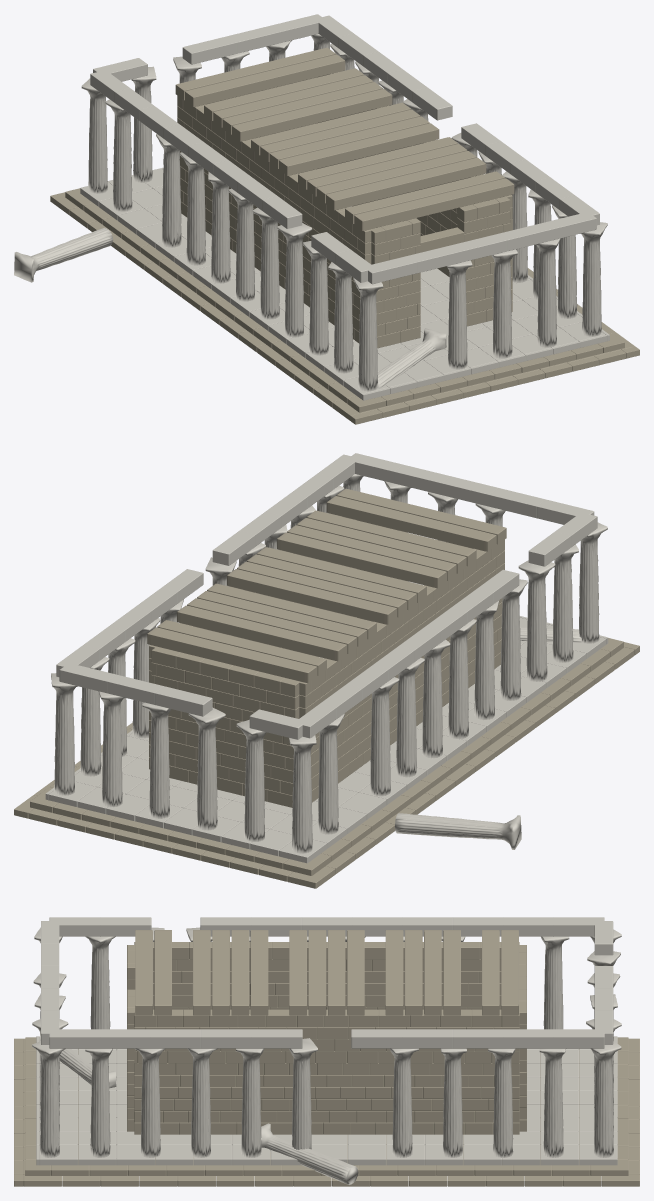
File: temple-ruins-quest.glb
3 views of the same model, one above another, from view 1: azimuth 30°, elevation 25°; view 2: azimuth 150°, elevation 25°; view 3: azimuth 270°, elevation 25° (orthographic). The views are drawn at different scales.
Parts seen in each view (by area): view 1: temple-ruins-quest / Solstice aged marble, temple-ruins-quest / Solstice weathered sandstone; view 2: temple-ruins-quest / Solstice aged marble, temple-ruins-quest / Solstice weathered sandstone; view 3: temple-ruins-quest / Solstice weathered sandstone, temple-ruins-quest / Solstice aged marble.
Part boxes in pixels (bbox=[...]): temple-ruins-quest / Solstice aged marble: bbox=[14, 14, 609, 400]; temple-ruins-quest / Solstice weathered sandstone: bbox=[50, 47, 639, 424]; temple-ruins-quest / Solstice aged marble: bbox=[45, 453, 608, 863]; temple-ruins-quest / Solstice weathered sandstone: bbox=[14, 488, 639, 888]; temple-ruins-quest / Solstice weathered sandstone: bbox=[14, 930, 639, 1186]; temple-ruins-quest / Solstice aged marble: bbox=[32, 917, 621, 1184].
Size of the model in its own units: 30.45 by 10.15 by 38.99.
